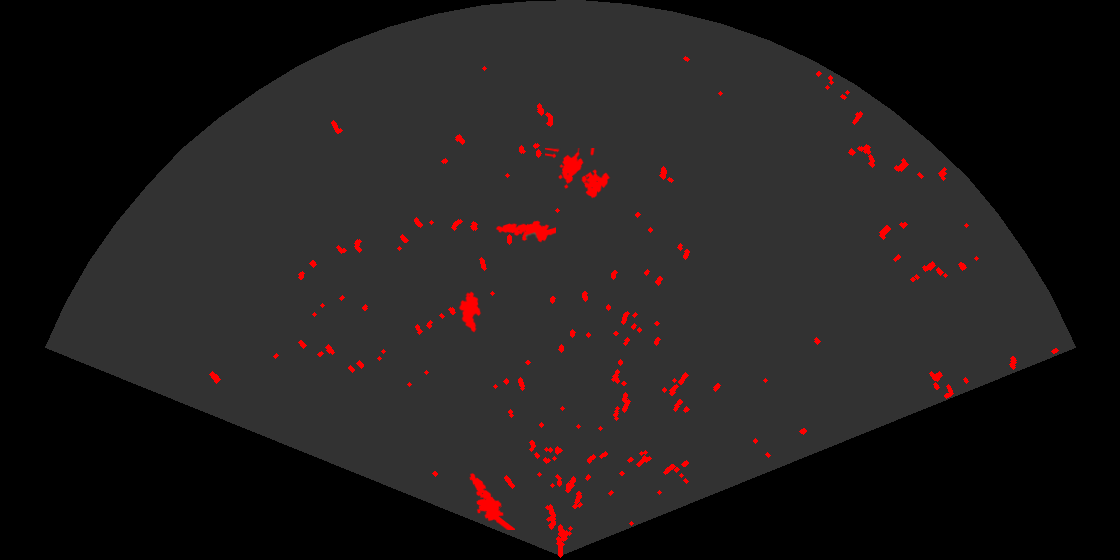AUV: (457, 290, 483, 334)
cage: (545, 148, 612, 200)
frogman: (468, 471, 515, 530), (494, 219, 556, 244)
